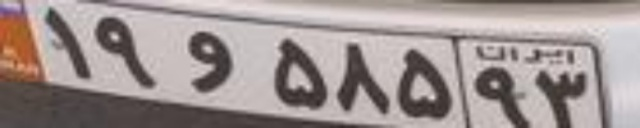1: (42, 7, 90, 80)
3: (535, 66, 589, 126)
5: (270, 36, 329, 109), (394, 47, 453, 118)
8: (334, 41, 389, 114)
9: (94, 15, 156, 90), (471, 65, 531, 127)
vav: (178, 31, 236, 93)
